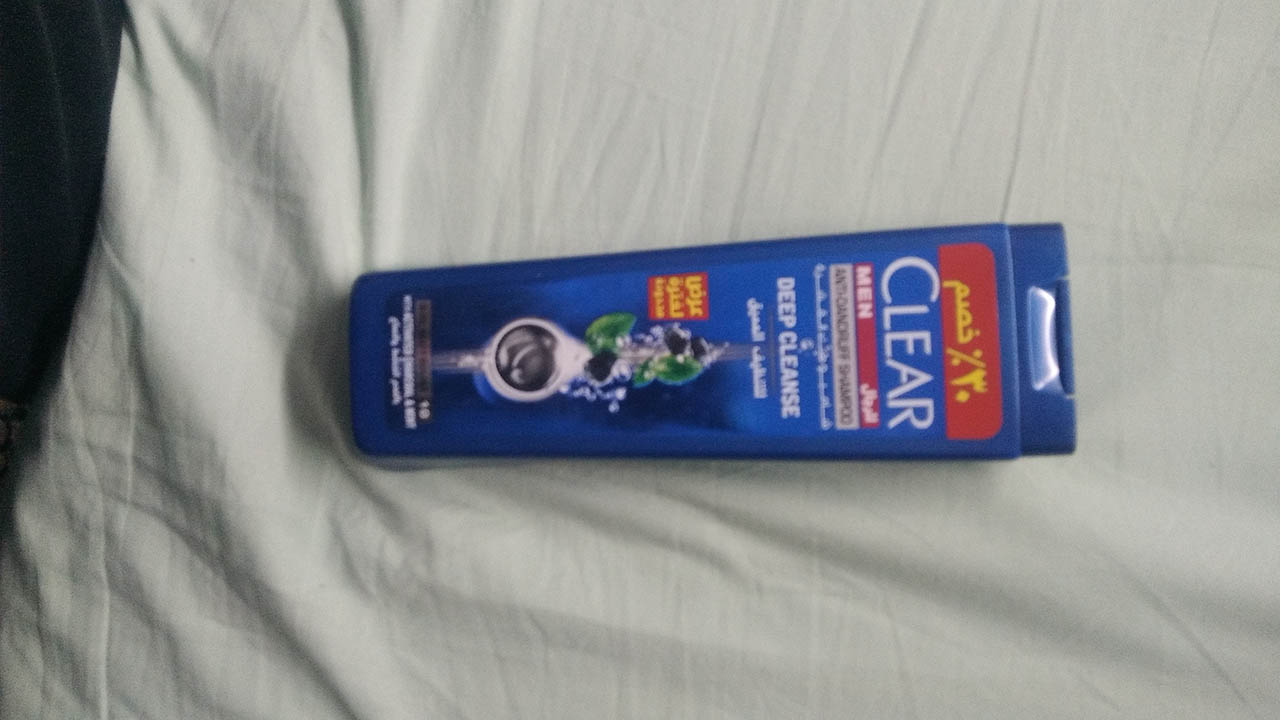Shampoo-Clear 4.7$: (320, 223, 1084, 478)
